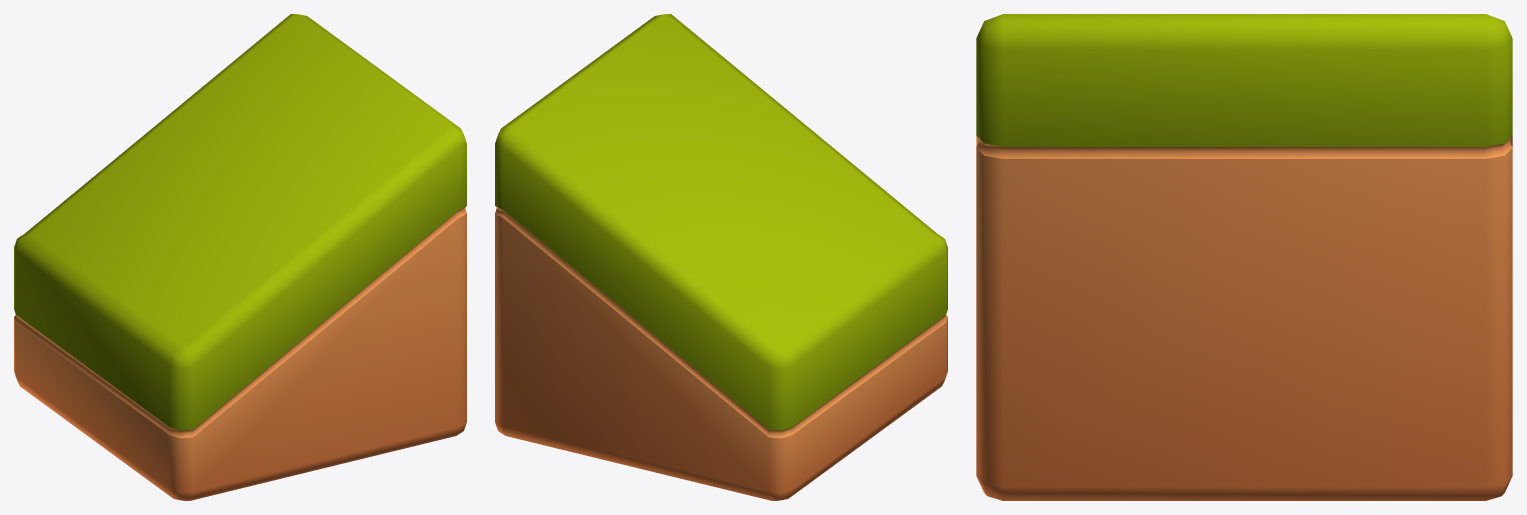
Rendered from Ground_Slope.fbx.
3 renders of one model, left to right at view 1: azimuth 30°, elevation 25°; view 2: azimuth 150°, elevation 25°; view 3: azimuth 270°, elevation 25°, orthographic. The views are drawn at different scales.
Visible parts, largest first — view 1: _3D_Tile_Ground_Slope_01; view 2: _3D_Tile_Ground_Slope_01; view 3: _3D_Tile_Ground_Slope_01.
Boxes of the visible parts, x1,y1,x2,y2 form: _3D_Tile_Ground_Slope_01: (14,14,466,500); _3D_Tile_Ground_Slope_01: (495,14,947,500); _3D_Tile_Ground_Slope_01: (976,14,1512,500).
Size of the model in its own units: 200 by 200 by 200.
1 material, 1 textured.
